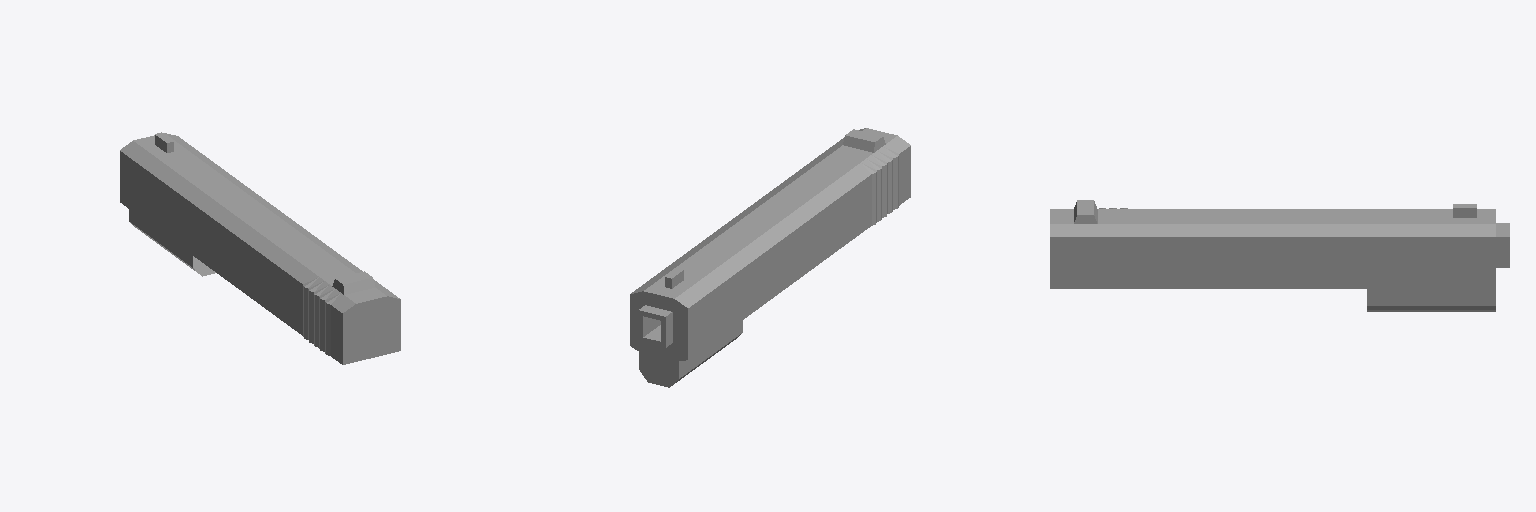
The model's file is glock_top.obj.
3 views of the same model, side by side, from view 1: azimuth 30°, elevation 25°; view 2: azimuth 150°, elevation 25°; view 3: azimuth 270°, elevation 25° (orthographic).
Visible parts, largest first — view 1: GlockTop_Cube.001; view 2: GlockTop_Cube.001; view 3: GlockTop_Cube.001.
Boxes of the visible parts, box(x1,y1,x2,y2) form: GlockTop_Cube.001: box(120, 132, 400, 364); GlockTop_Cube.001: box(630, 128, 910, 387); GlockTop_Cube.001: box(1050, 200, 1509, 311).
Bounding box in the file's own units: 0.3492 × 0.5574 × 2.31.